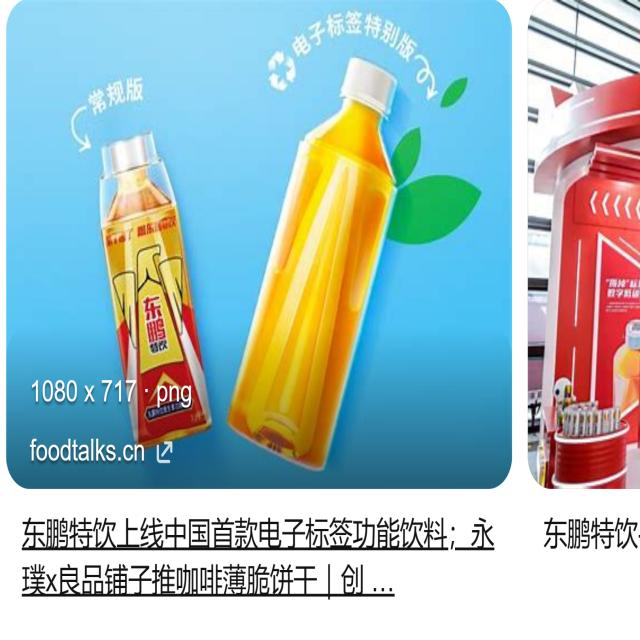dongpeng_special: (110, 249, 190, 371)
